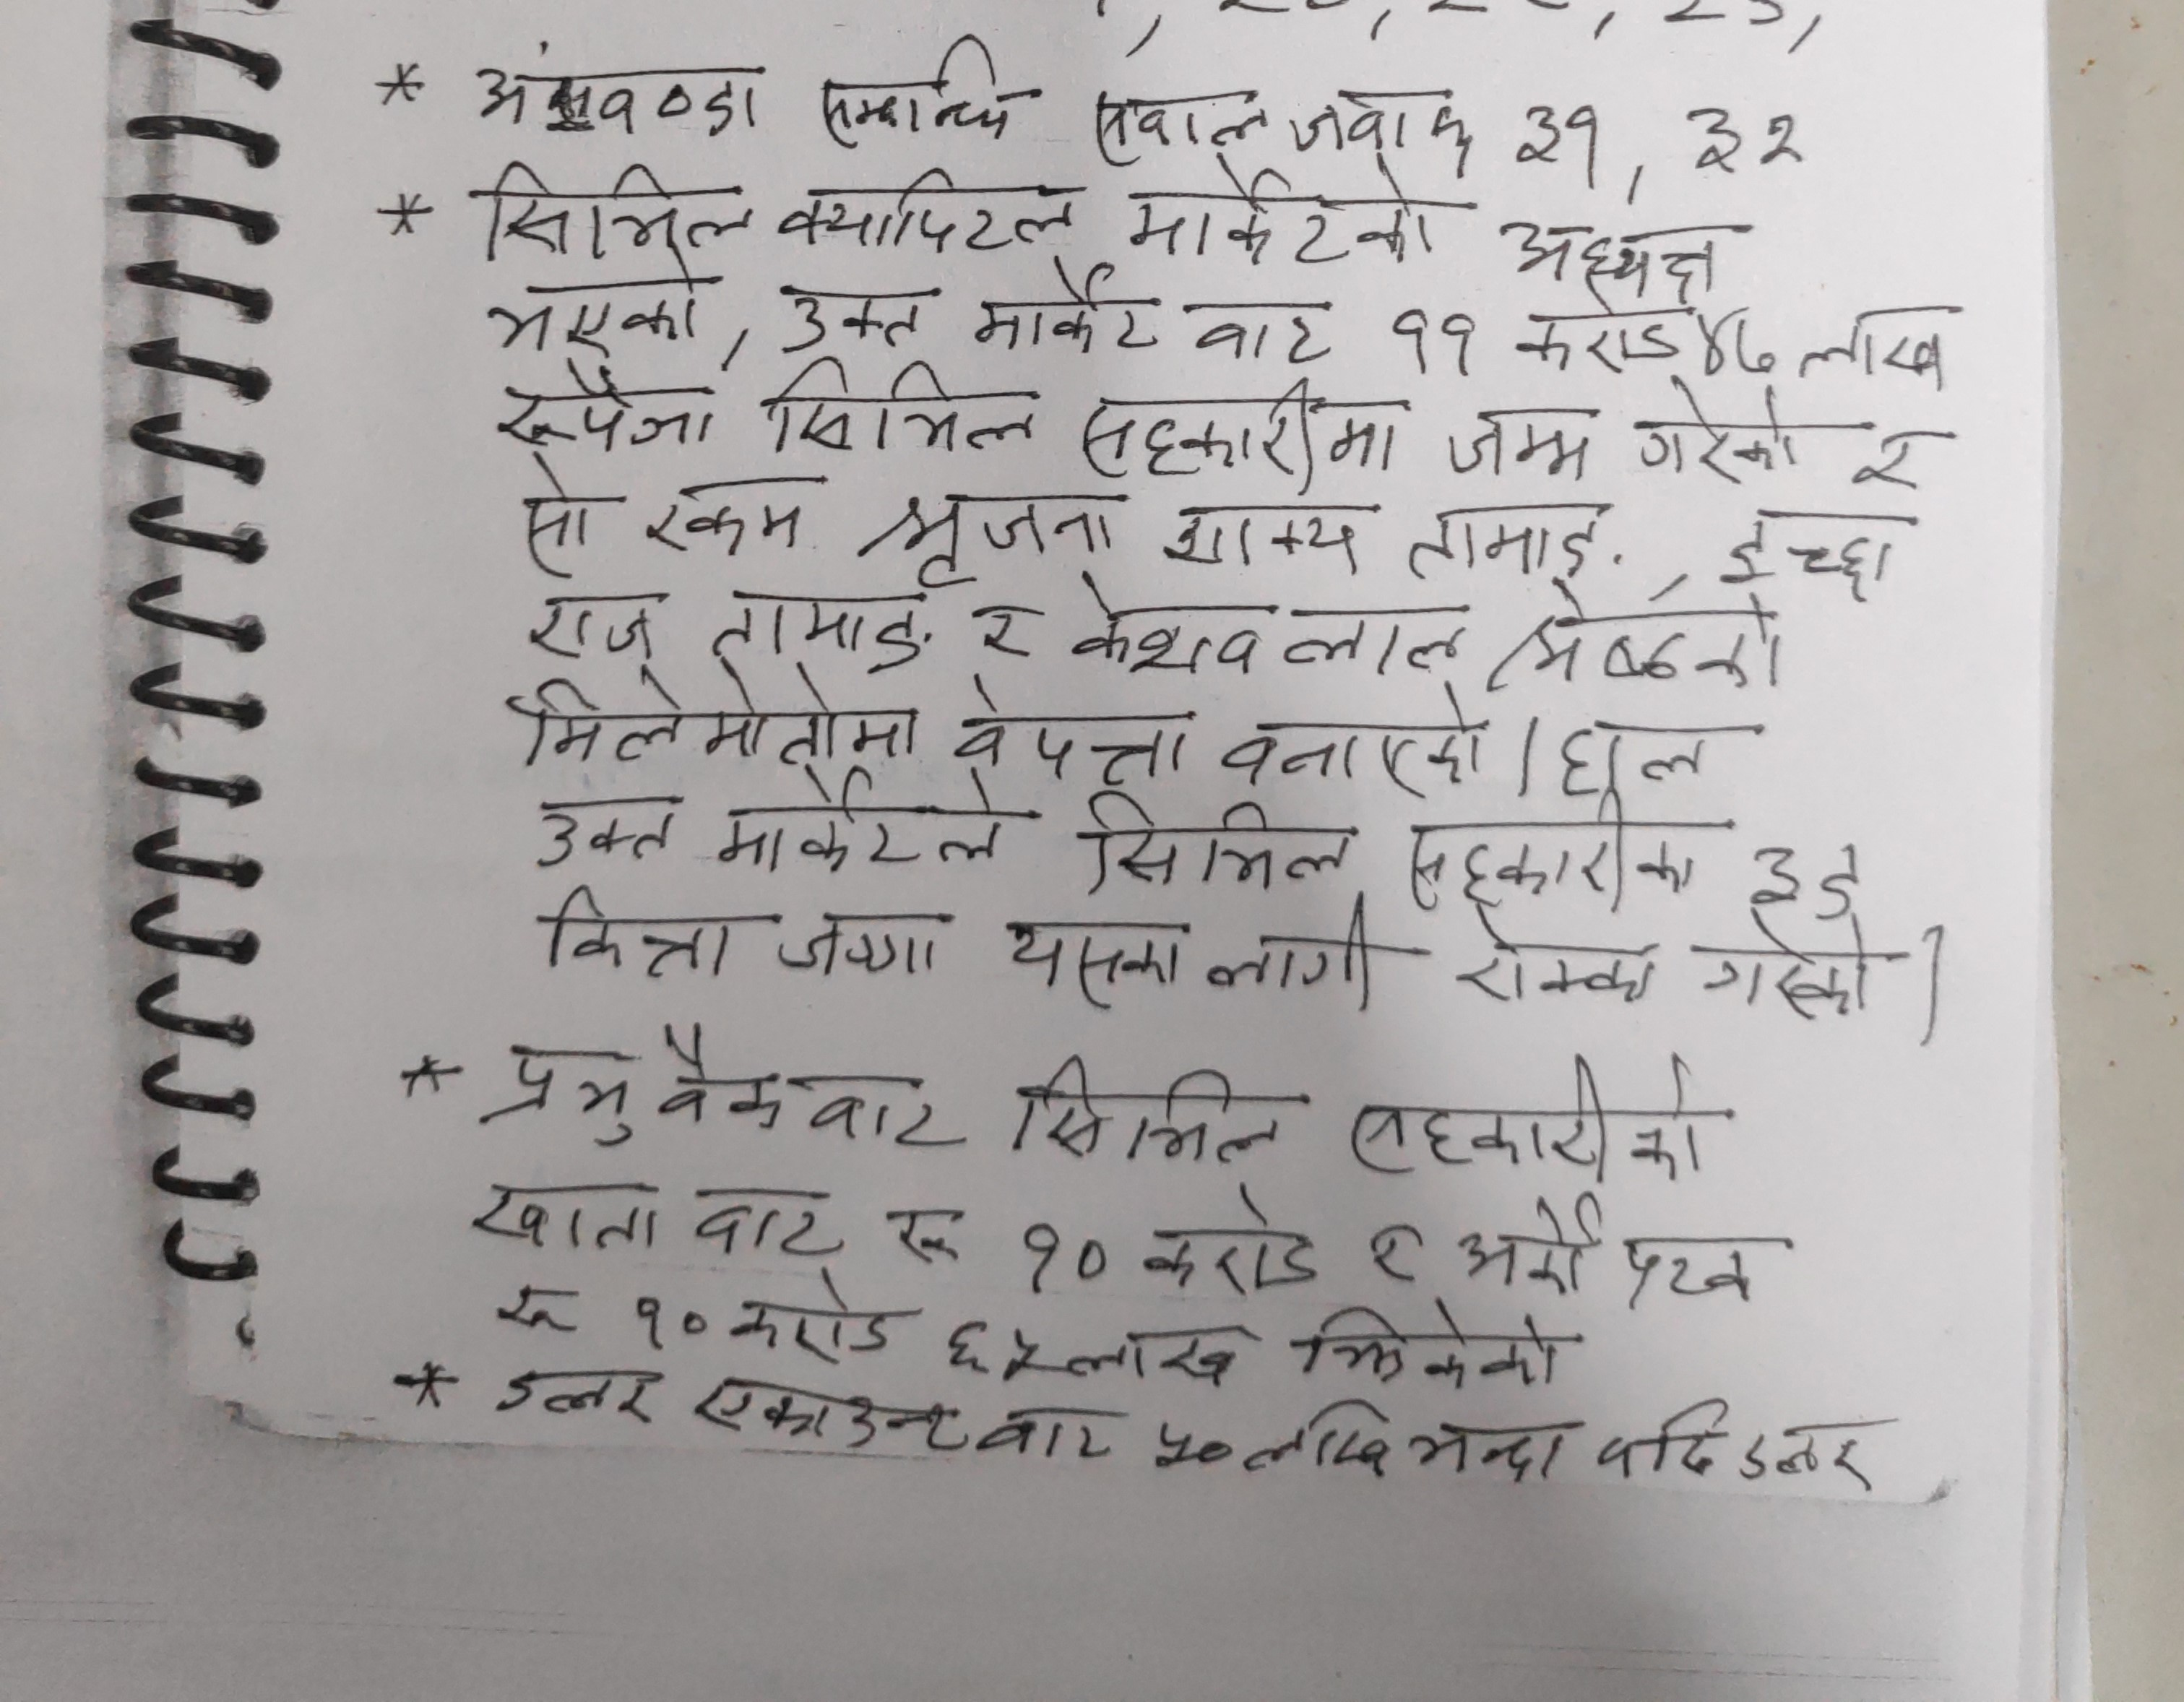text: (1333, 1046, 1721, 1183), (649, 1011, 975, 1158), (503, 658, 931, 768), (1071, 353, 1400, 491), (1064, 580, 1470, 683), (1117, 154, 1447, 280), (1395, 800, 1709, 915), (706, 766, 1018, 879), (1010, 1051, 1296, 1172), (948, 656, 1200, 792), (1081, 784, 1358, 906), (473, 37, 766, 152), (475, 149, 762, 264), (1521, 569, 1789, 690), (1214, 684, 1480, 805), (762, 355, 1051, 463), (849, 480, 1126, 589), (1283, 1300, 1583, 1399), (778, 163, 1081, 259), (807, 32, 1028, 158), (1133, 1174, 1326, 1308), (486, 254, 727, 360), (690, 1370, 968, 1461), (1501, 197, 1732, 305), (1393, 477, 1629, 580), (487, 360, 716, 465), (1200, 894, 1384, 1019), (539, 883, 750, 991), (1457, 911, 1663, 1016), (716, 578, 934, 675), (487, 1019, 640, 1156), (1154, 480, 1363, 580), (1698, 922, 1879, 1027), (459, 1168, 659, 1261), (968, 262, 1159, 358), (1629, 378, 1801, 484), (1060, 1305, 1250, 1401), (727, 1264, 902, 1367), (1796, 294, 1966, 399), (1443, 385, 1604, 495), (1285, 80, 1478, 170), (1716, 504, 1904, 596), (1510, 275, 1679, 378), (1000, 917, 1195, 1005), (1452, 1193, 1604, 1305), (1232, 1394, 1399, 1495), (523, 785, 690, 883), (1081, 78, 1267, 163), (775, 899, 959, 984), (1558, 706, 1730, 796), (1599, 1388, 1735, 1500), (491, 1356, 659, 1445), (645, 470, 805, 562), (1406, 1406, 1578, 1489), (681, 1177, 838, 1264), (766, 277, 931, 358), (1675, 96, 1819, 181), (1186, 296, 1333, 378), (1735, 1415, 1883, 1495), (519, 590, 654, 674), (975, 1397, 1131, 1468), (1012, 1211, 1127, 1305), (932, 1305, 1060, 1388), (518, 457, 603, 580), (1748, 839, 1867, 922), (1505, 82, 1610, 176), (885, 1193, 989, 1280), (1688, 291, 1782, 378), (475, 1268, 581, 1342), (1390, 305, 1478, 394), (1845, 410, 1934, 495), (1147, 1409, 1234, 1493), (617, 1287, 711, 1363), (1356, 1206, 1427, 1287), (968, 585, 1037, 668)
